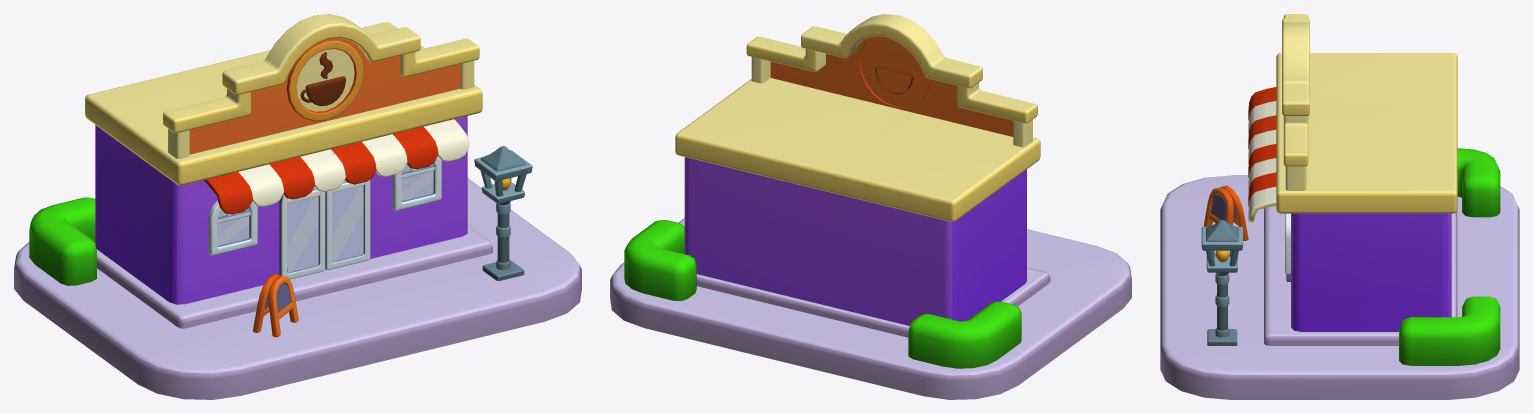
Rendered from cafe_house.fbx.
3 views of the same model, side by side, from view 1: azimuth 30°, elevation 25°; view 2: azimuth 150°, elevation 25°; view 3: azimuth 270°, elevation 25° (orthographic). The views are drawn at different scales.
Visible parts, largest first — view 1: house1, pave, light, board; view 2: house1, pave; view 3: house1, pave, light, board.
Part boxes in pixels (<box>): house1: <box>29,14,492,328</box>; pave: <box>14,178,581,399</box>; light: <box>474,146,532,280</box>; board: <box>253,274,298,337</box>; house1: <box>624,14,1050,368</box>; pave: <box>610,218,1131,399</box>; house1: <box>1248,14,1500,365</box>; pave: <box>1160,175,1519,399</box>; light: <box>1201,220,1243,345</box>; board: <box>1203,185,1248,240</box>.
Bounding box in the file's own units: 12.92 × 8.14 × 9.75.
